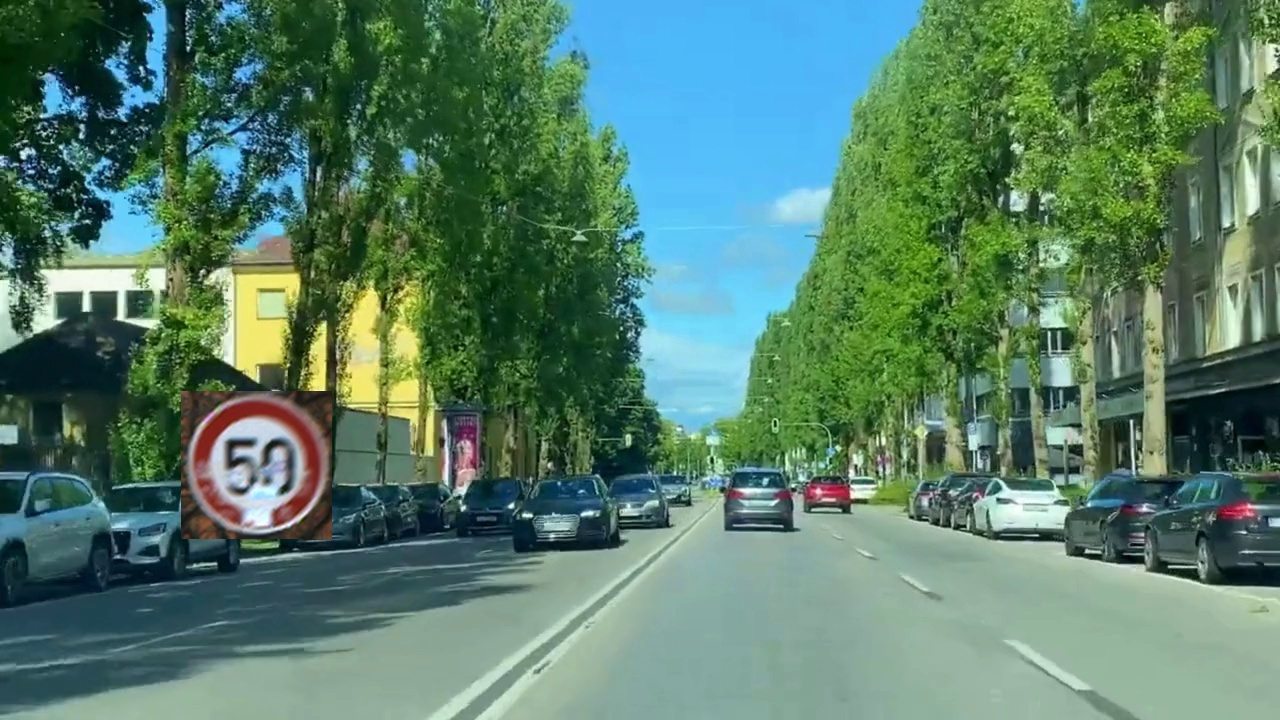Speed 50: (181, 391, 332, 539)
